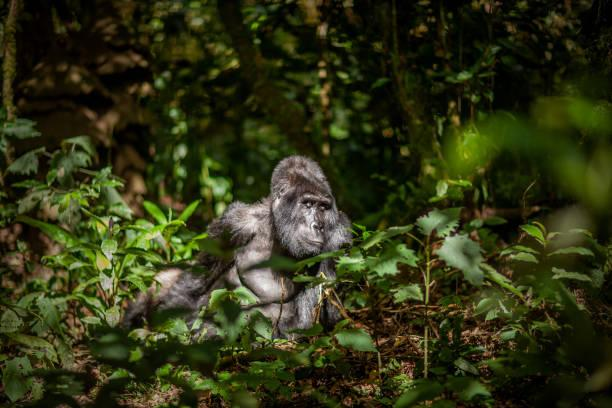goriile_montagne: (169, 153, 372, 340)
